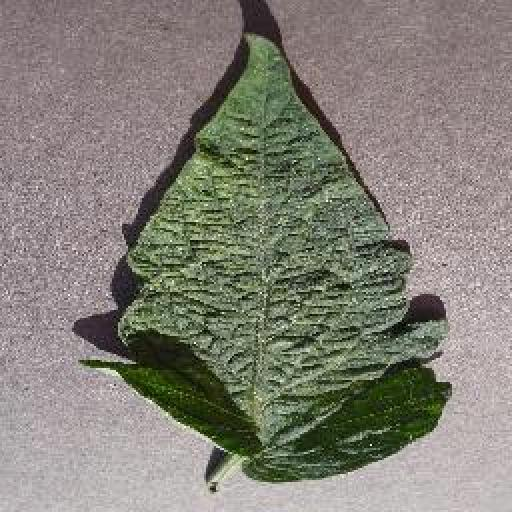disease_tomato: (88, 35, 450, 481)
